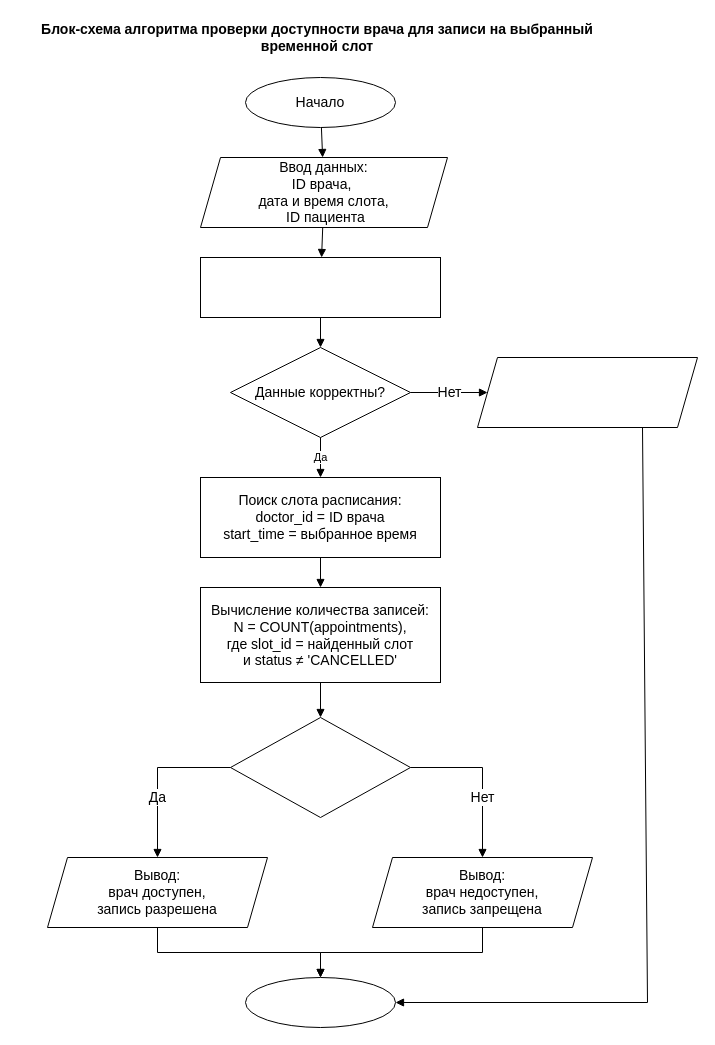
This 715x1045 diagram has some shape labels left out. Here are the shapes that lost their labels. From the top down, the centre of each, then its label:
At pixel 320 287: "Проверка корректности входных данных".
At pixel 587 392: "Вывод: ошибка входных данных".
At pixel 320 767: "Слот найден и N = 0?".
At pixel 320 1002: "Конец".
